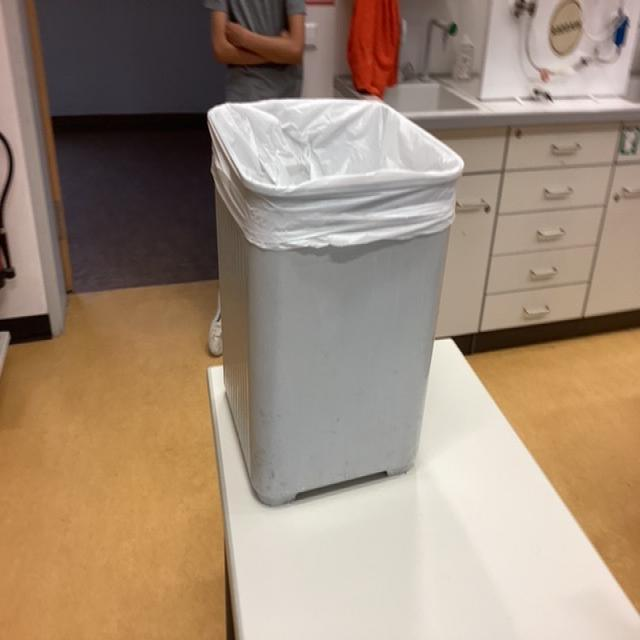garbage container: (190, 84, 473, 516)
